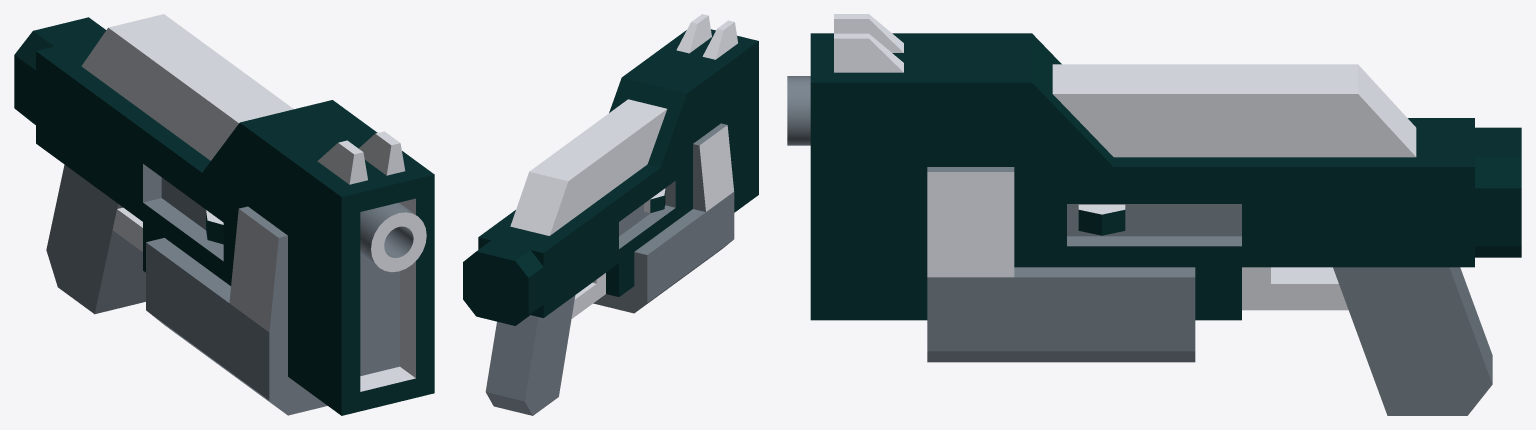
The model's file is blasterM.fbx.
The picture shows the model from 3 angles, left to right: view 1: azimuth 30°, elevation 25°; view 2: azimuth 150°, elevation 25°; view 3: azimuth 270°, elevation 25°; orthographic projection. The views are drawn at different scales.
Visible parts, largest first — view 1: blasterM; view 2: blasterM; view 3: blasterM.
Boxes of the visible parts, bbox=[...] form: blasterM: bbox=[14, 14, 434, 415]; blasterM: bbox=[463, 14, 758, 415]; blasterM: bbox=[787, 14, 1521, 415].
Bounding box in the file's own units: 0.4861 × 1.23 × 2.19.
